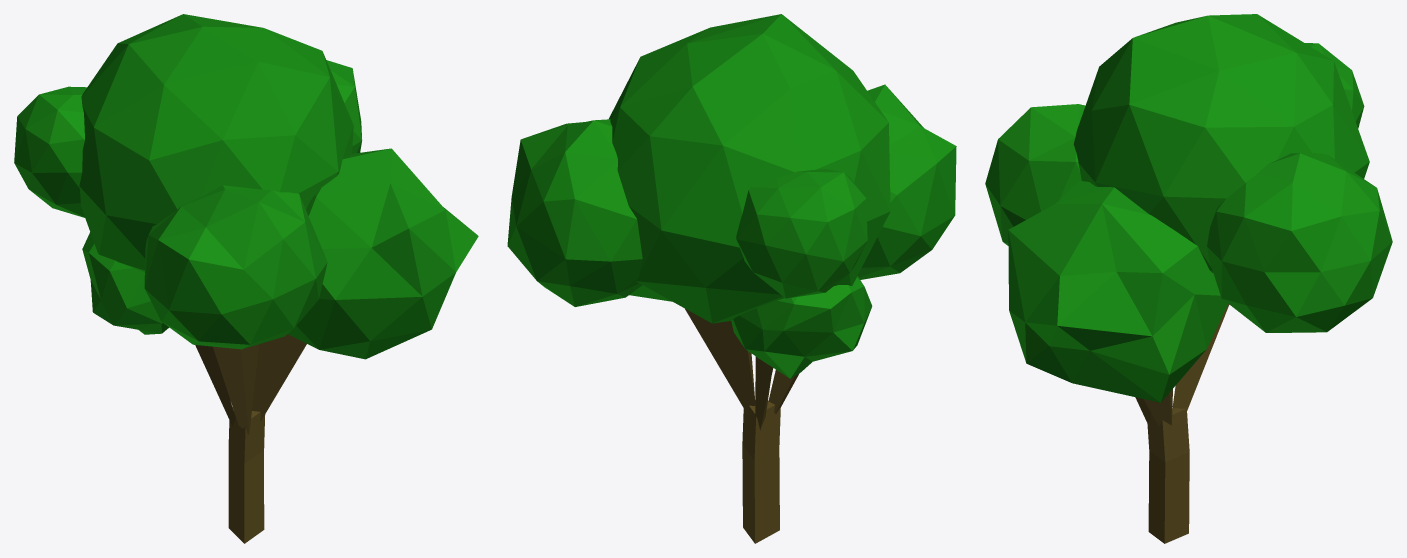
Rendered from 240519_tree_bubbly_01.glb.
3 views of the same model, side by side, from view 1: azimuth 30°, elevation 25°; view 2: azimuth 150°, elevation 25°; view 3: azimuth 270°, elevation 25° (orthographic). The views are drawn at different scales.
Visible parts, largest first — view 1: Icosphere.011; view 2: Icosphere.011; view 3: Icosphere.011.
Part boxes in pixels (<box>): Icosphere.011: <box>14,14,478,543</box>; Icosphere.011: <box>507,14,956,543</box>; Icosphere.011: <box>985,14,1392,543</box>.
Bounding box in the file's own units: 3.65 × 5.16 × 3.74.
